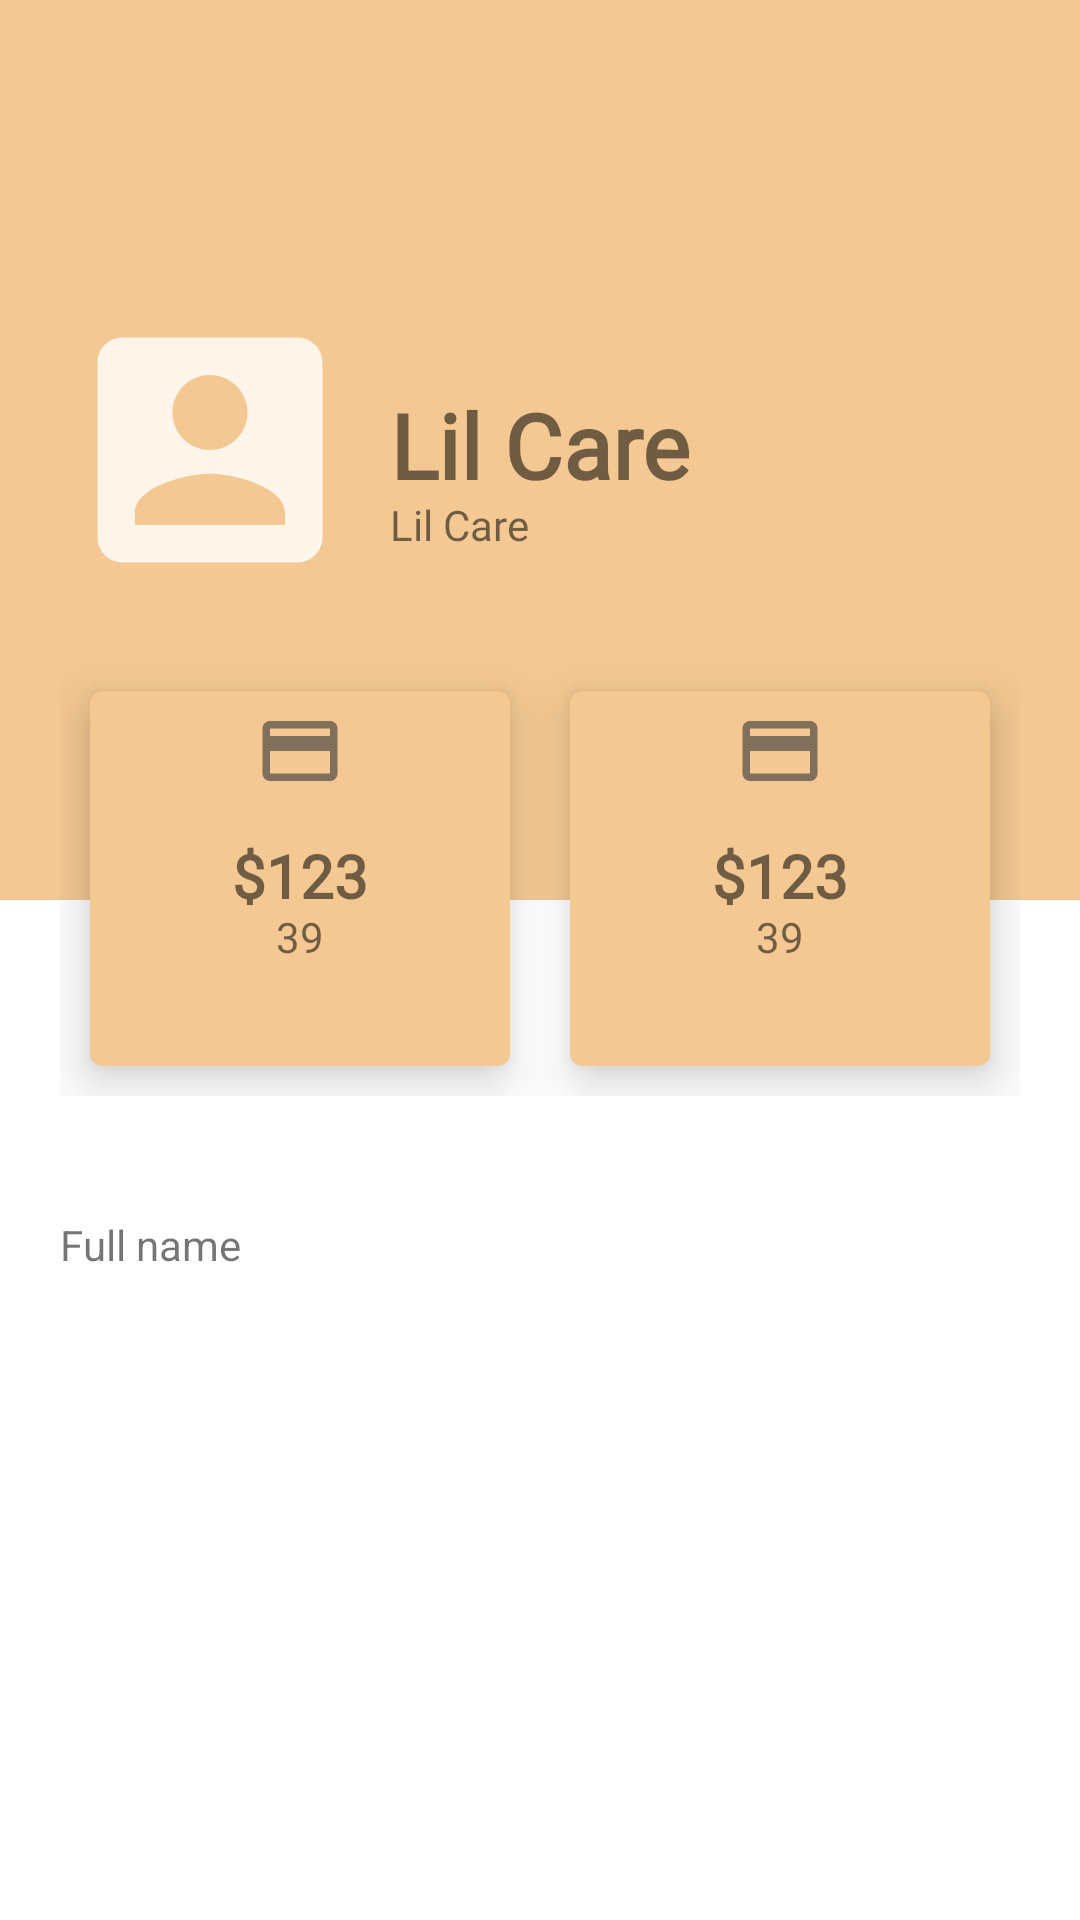

Named icons in this screenshot (1080×1920) and their centers, point (x, y):
account: point (210, 450)
payment: point (300, 751), point (780, 751)
